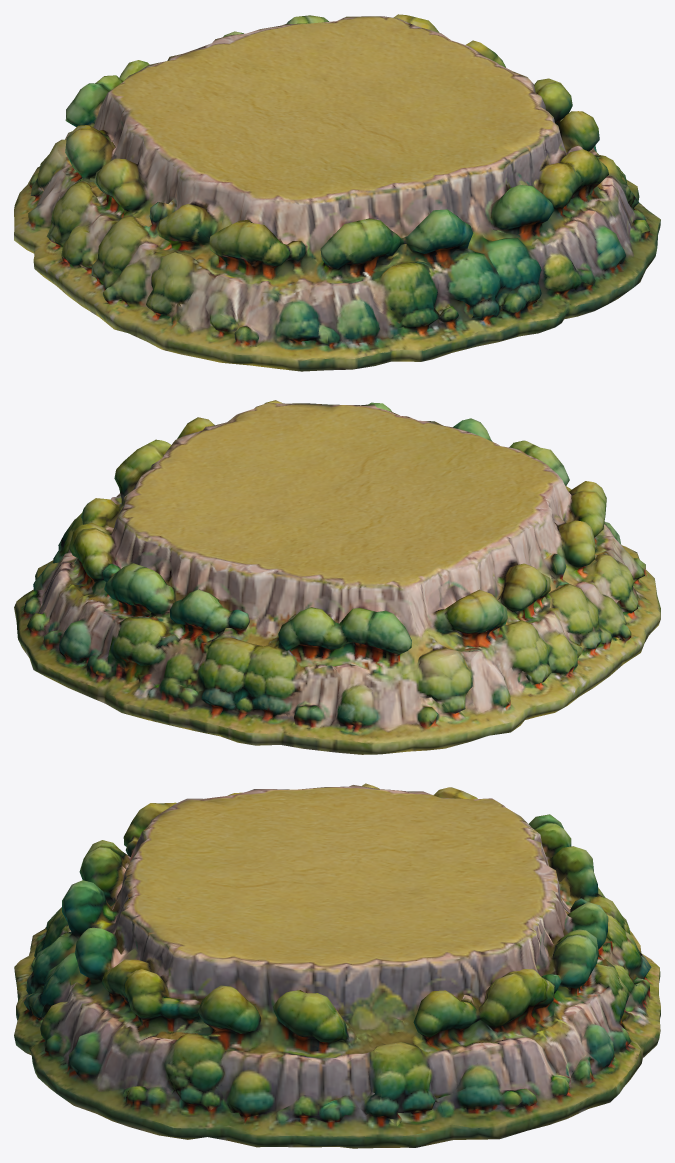
3 views of the same model, one above another, from view 1: azimuth 30°, elevation 25°; view 2: azimuth 150°, elevation 25°; view 3: azimuth 270°, elevation 25° (orthographic). The views are drawn at different scales.
Visible parts, largest first — view 1: texture_mapping; view 2: texture_mapping; view 3: texture_mapping.
Boxes of the visible parts, x1=… form: texture_mapping: x1=14, y1=14, x2=660, y2=371; texture_mapping: x1=14, y1=400, x2=660, y2=754; texture_mapping: x1=14, y1=783, x2=660, y2=1148.
Size of the model in its own units: 1 by 0.2324 by 0.9948.
1 material, 1 textured.
